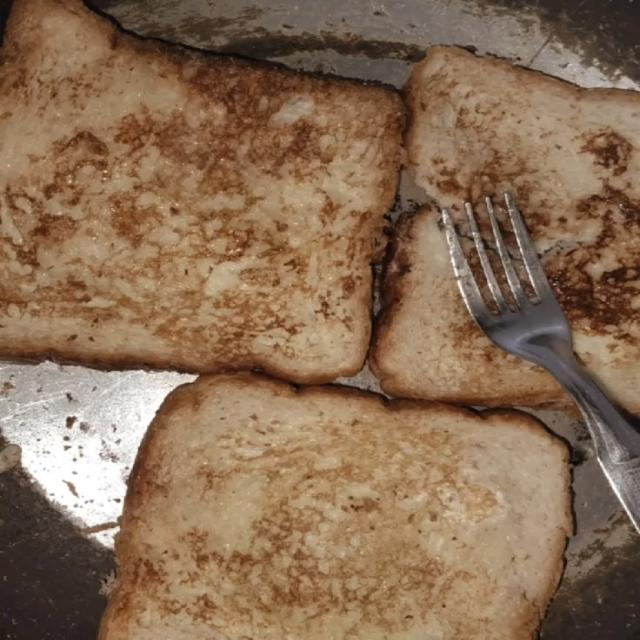toast bread: (0, 0, 403, 382), (100, 374, 572, 639), (407, 48, 639, 412)
